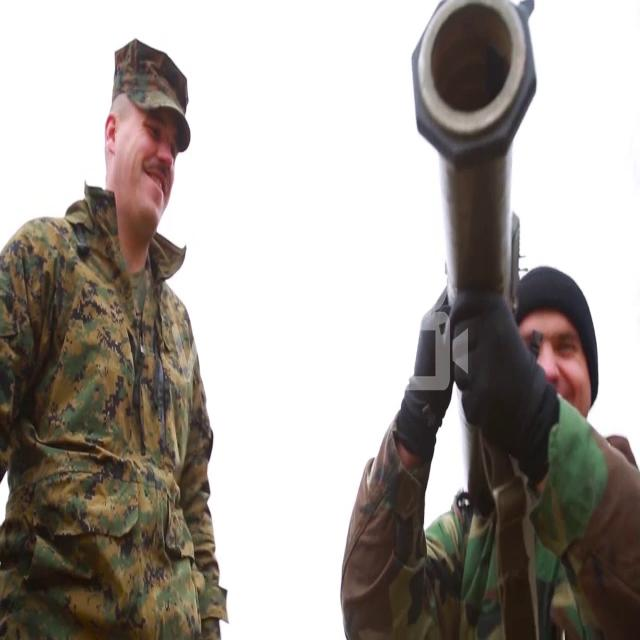bazooka: (403, 1, 537, 526)
